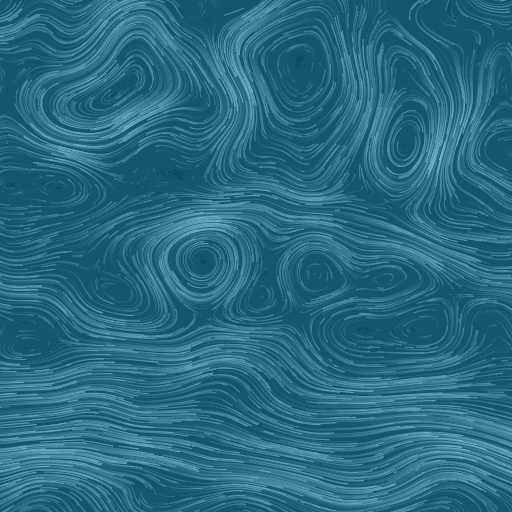eddy: (54, 26, 186, 130), (243, 8, 350, 136), (281, 244, 412, 304), (330, 298, 458, 357), (163, 225, 242, 307), (376, 92, 434, 181), (96, 275, 140, 311)
